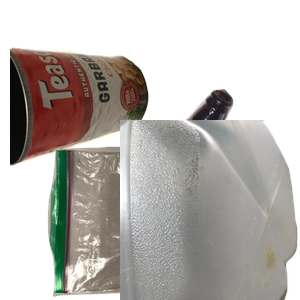glass: (130, 87, 300, 267)
metal: (10, 44, 151, 203)
plastic: (120, 120, 300, 300)
trash: (45, 144, 235, 300)
